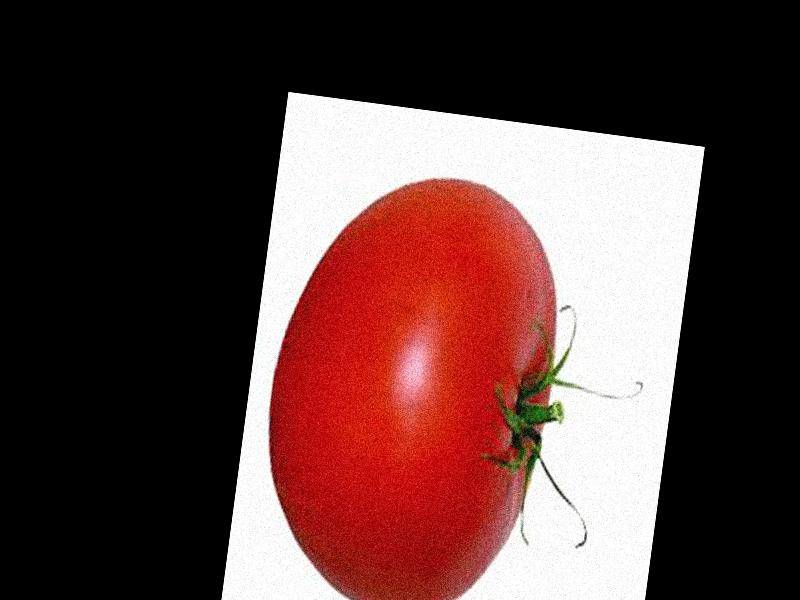Tomato: (246, 163, 575, 600)
